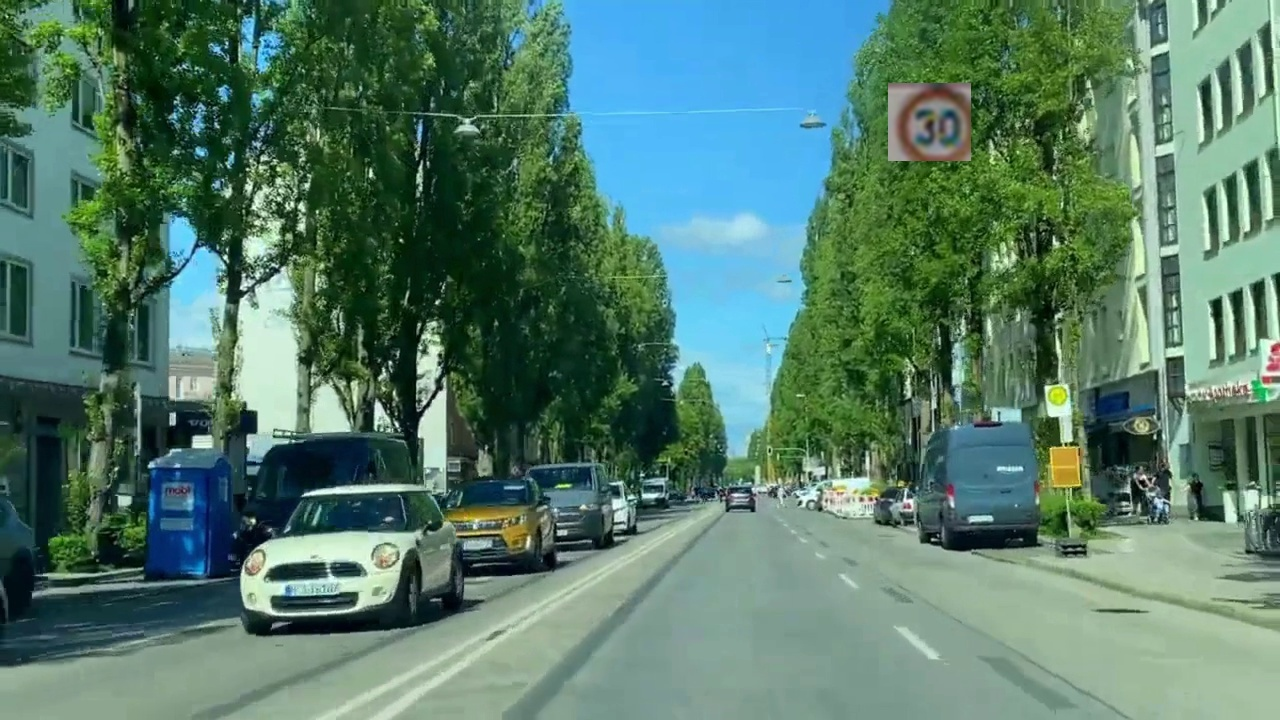Speed 30: (888, 83, 971, 161)
